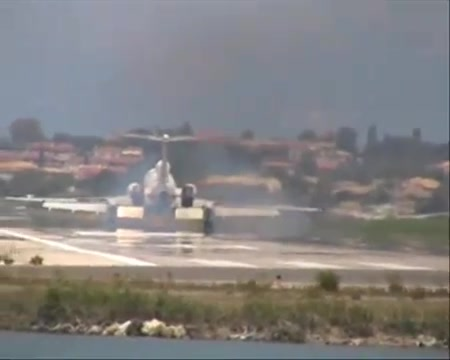aeroplane: (13, 135, 326, 226)
